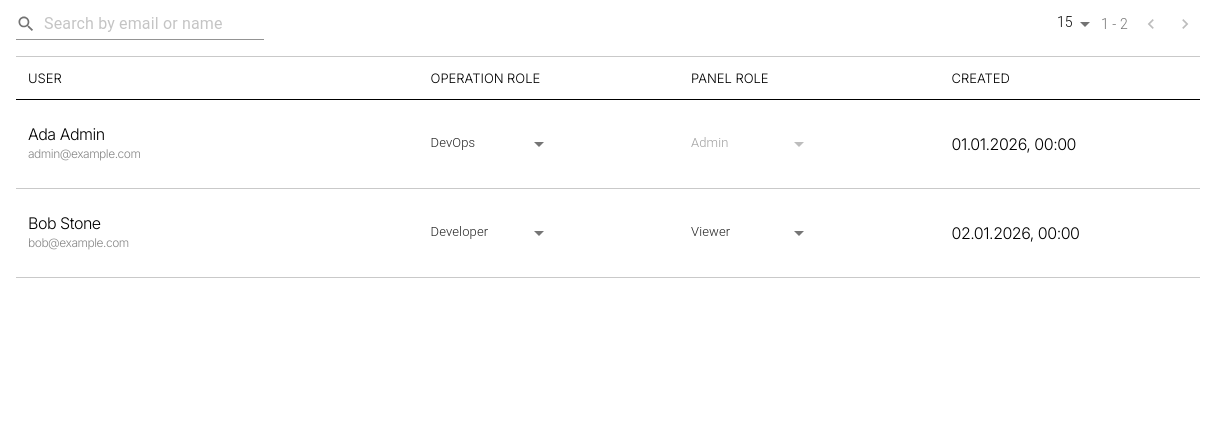
Scenario: UsersPanel role management › sends the full role state on each change and reflects the update
expect the dropdown labelled "Viewer" is shown: met, box [691,224,730,239]
Click the dropdown labelled "Developer" at (459, 231), box [431,224,488,239]
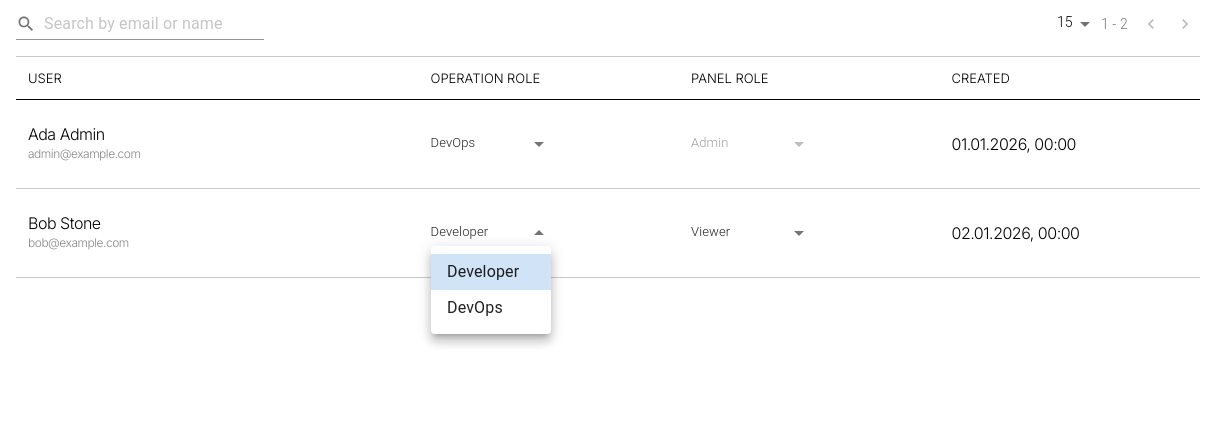
Click the option "DevOps" at (475, 308), box [447,298,503,317]
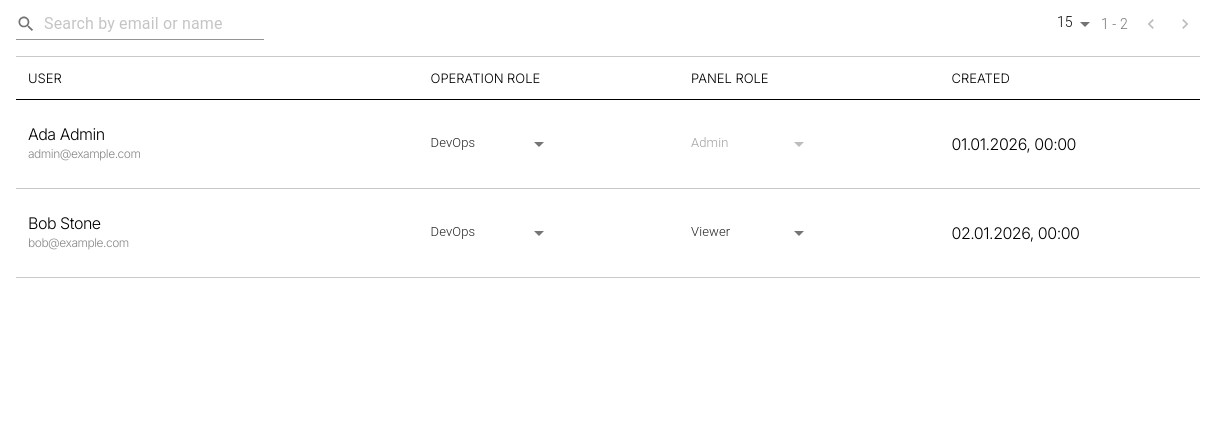
expect the dropdown labelled "DevOps" in the row of "Bob Stone" is shown: met, box [431,224,475,239]
Click the dropdown labelled "Viewer" at (711, 231), box [691,224,730,239]
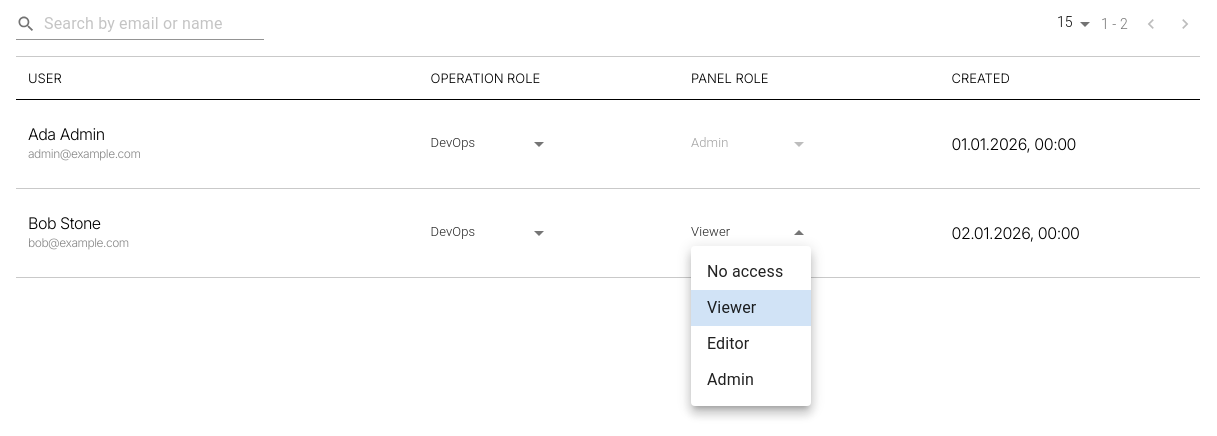
Click the option "No access" at (745, 272), box [707,262,783,281]
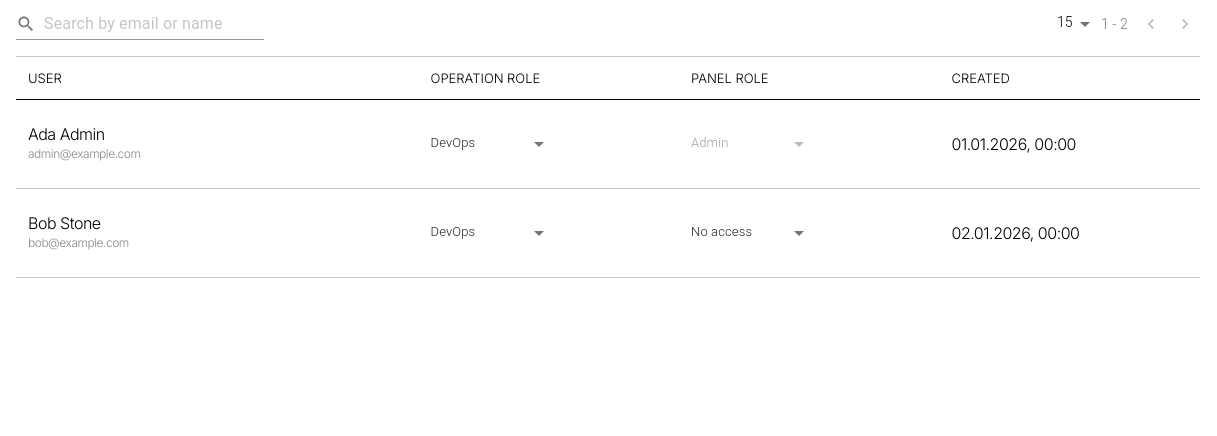
expect the dropdown labelled "No access" is shown: met, box [691,224,752,239]
